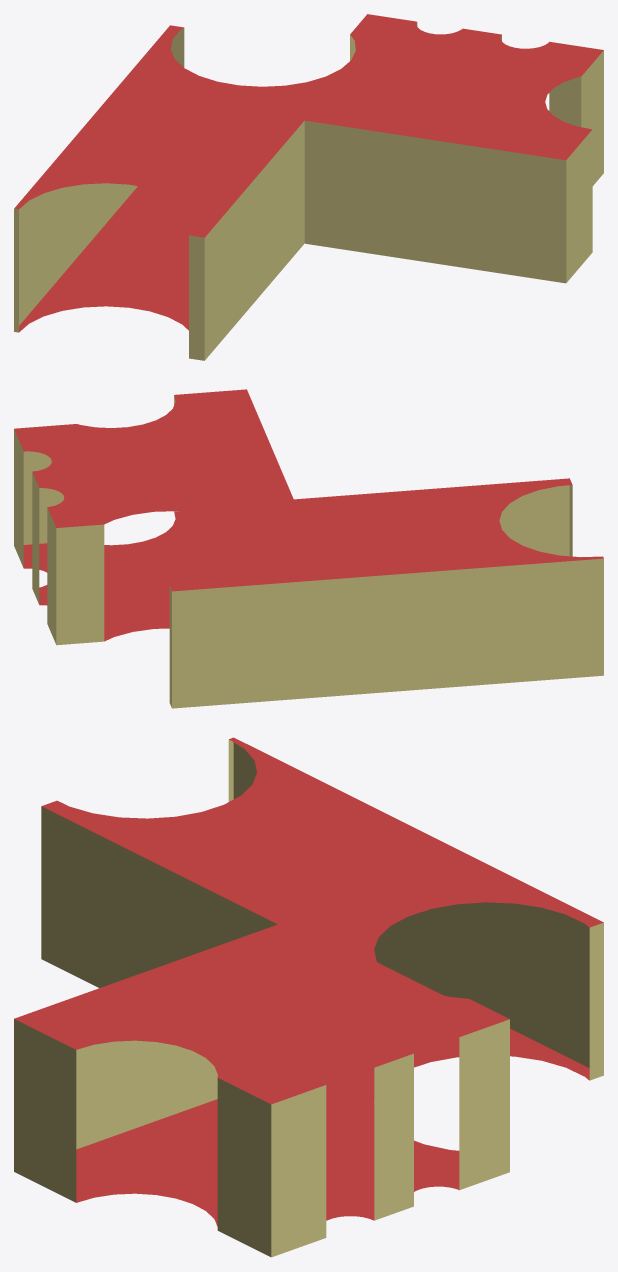
The picture shows the model from 3 angles, top to bottom: view 1: azimuth 30°, elevation 25°; view 2: azimuth 150°, elevation 25°; view 3: azimuth 270°, elevation 25°; orthographic projection. The views are drawn at different scales.
Bounding box in the file's own units: 37.91 × 25.76 × 7.37.
